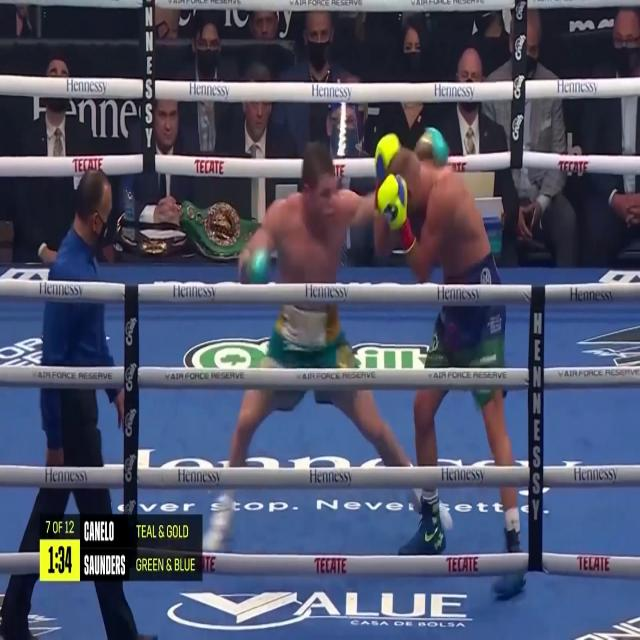boxer_1: (389, 128, 490, 268)
boxer_2: (280, 142, 348, 283)
gloves_1: (375, 133, 414, 247)
gloves_2: (413, 127, 449, 166), (240, 247, 270, 285)
